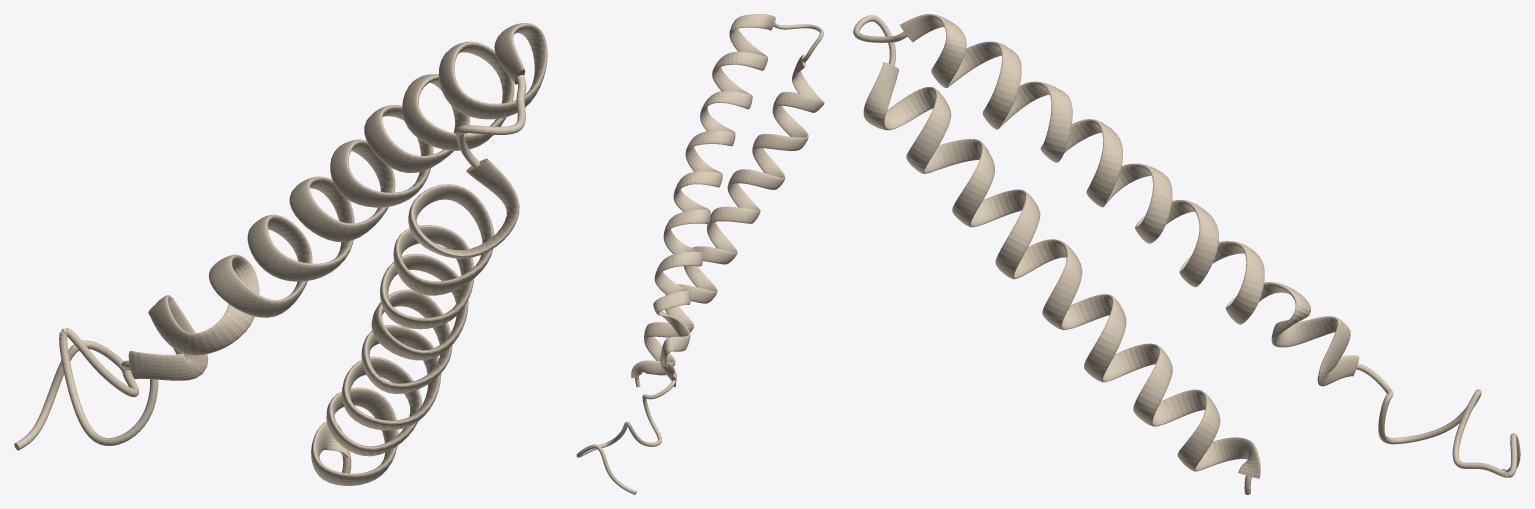
Rendered from HelixHelixrCoil.dae.
The picture shows the model from 3 angles, left to right: view 1: azimuth 30°, elevation 25°; view 2: azimuth 150°, elevation 25°; view 3: azimuth 270°, elevation 25°; orthographic projection. The views are drawn at different scales.
Parts seen in each view (by area): view 1: Shape_IndexedTriangleStripSet_078; view 2: Shape_IndexedTriangleStripSet_078; view 3: Shape_IndexedTriangleStripSet_078.
Boxes of the visible parts, x1,y1,x2,y2 form: Shape_IndexedTriangleStripSet_078: (14,23,547,485); Shape_IndexedTriangleStripSet_078: (576,14,824,494); Shape_IndexedTriangleStripSet_078: (853,14,1520,494).
Bounding box in the file's own units: 12.49 × 52.38 × 43.96.
